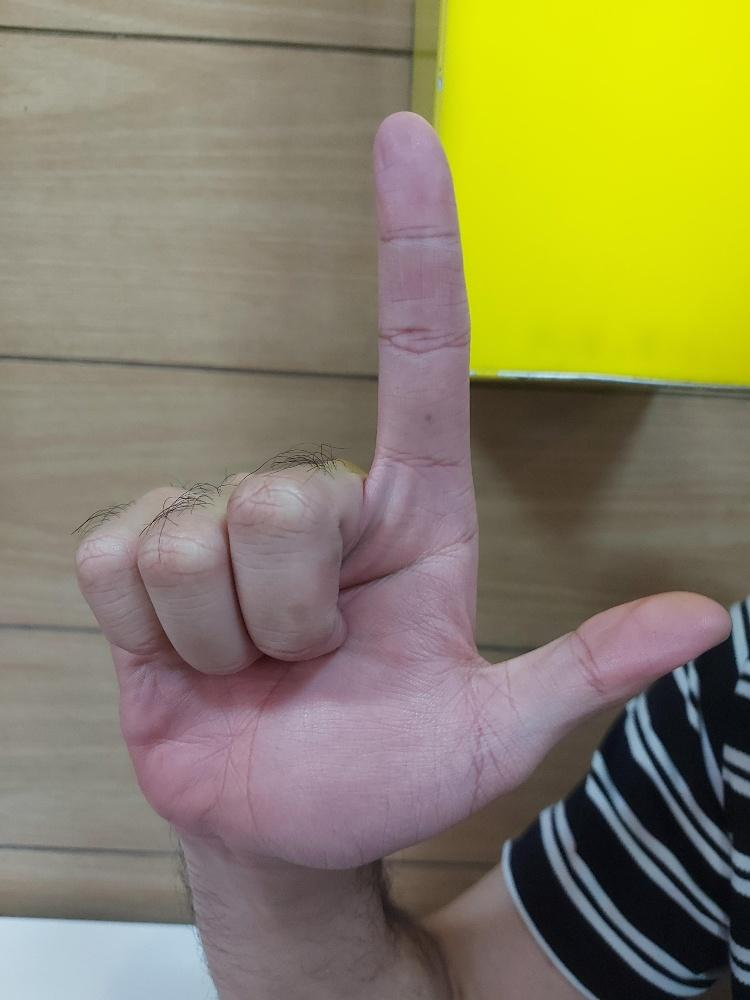l: (72, 105, 732, 870)
